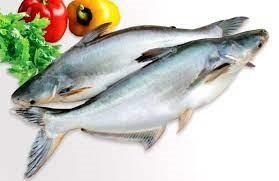Pangasius: (10, 29, 270, 178), (10, 15, 247, 112)
